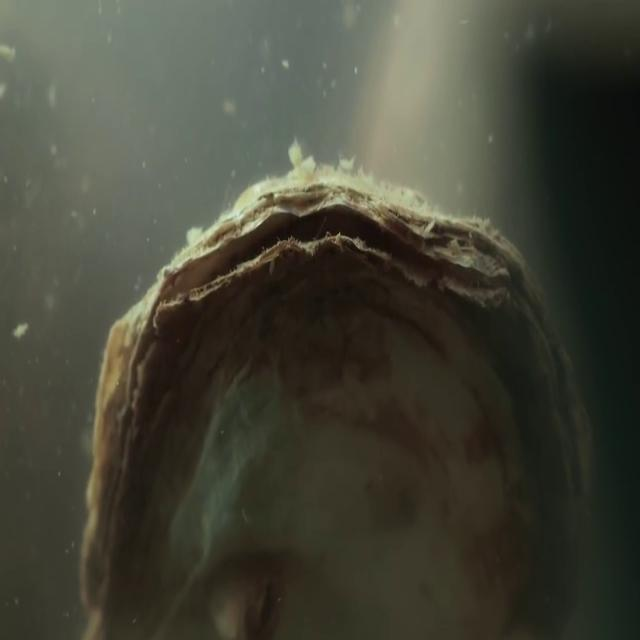Oyster-Closed: (73, 153, 610, 633)
